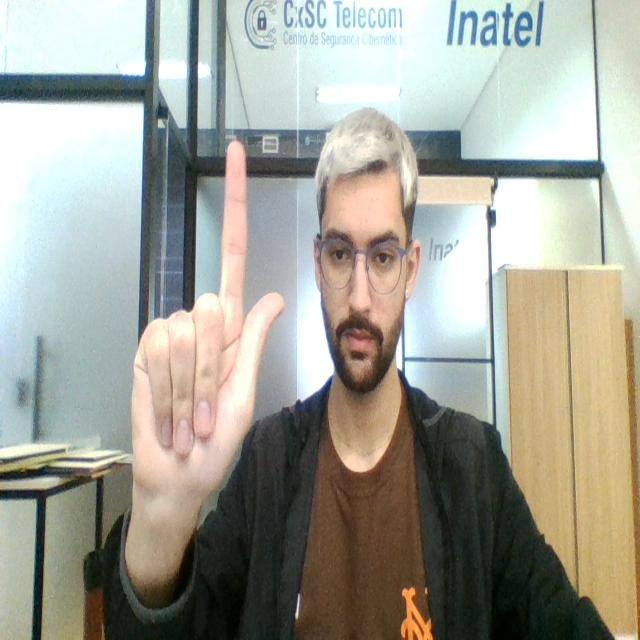G: (127, 135, 287, 505)
